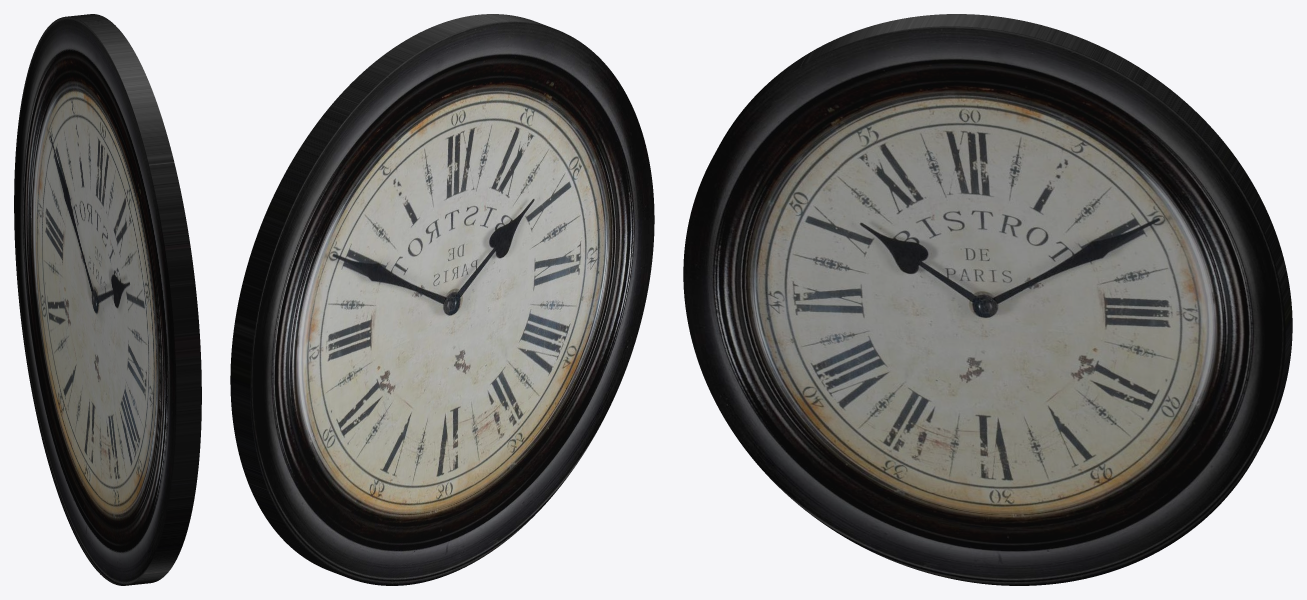
The model's file is clock.fbx.
3 views of the same model, side by side, from view 1: azimuth 30°, elevation 25°; view 2: azimuth 150°, elevation 25°; view 3: azimuth 270°, elevation 25° (orthographic). The views are drawn at different scales.
Parts seen in each view (by area): view 1: Model; view 2: Model; view 3: Model.
Boxes of the visible parts, x1,y1,x2,y2 form: Model: (14,14,201,585); Model: (230,14,654,585); Model: (683,14,1292,585).
Size of the model in its own units: 160 by 571 by 561.
